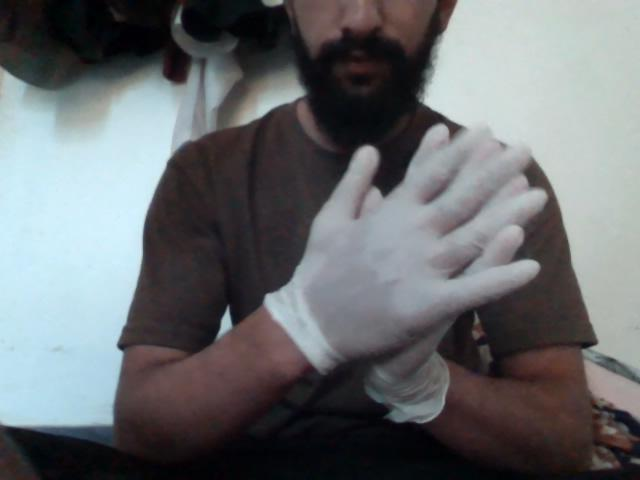gloves: (234, 114, 608, 385)
